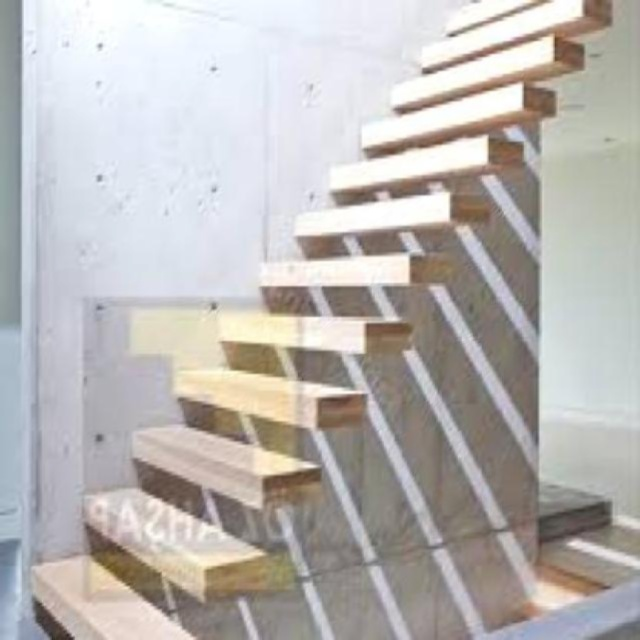stair: (15, 3, 617, 637)
